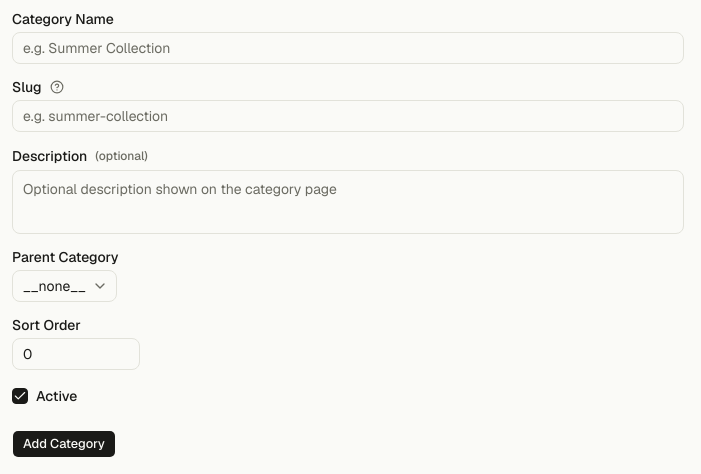
CategoryForm › keeps slug synced when current slug equals the previous auto-slug (current === prevAutoSlug)
Type "Hats" into the field labelled "Category Name" at [348, 48], box [12,32,684,64]
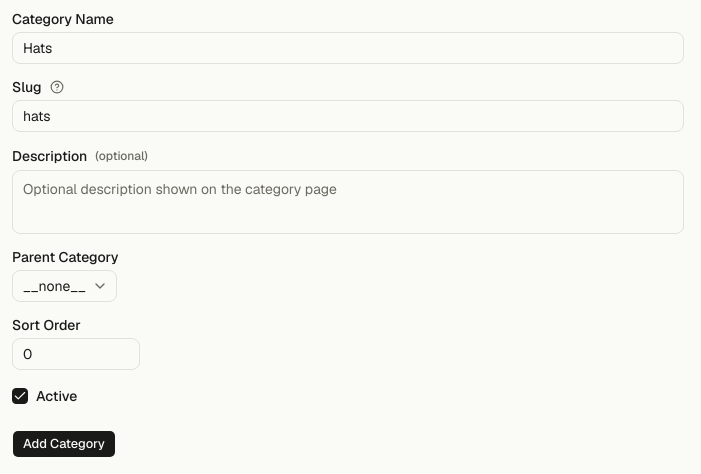
Expected: the field with id "cat-slug" holds "hats", [12,100,684,132]
Replace the text in the field labelled "Category Name" with "Hats And Caps" at [348, 48], box [12,32,684,64]
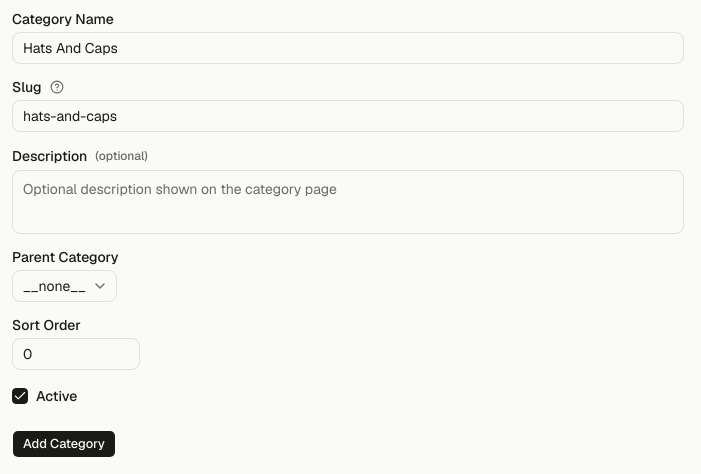
Expected: the field with id "cat-slug" holds "hats-and-caps", [12,100,684,132]
